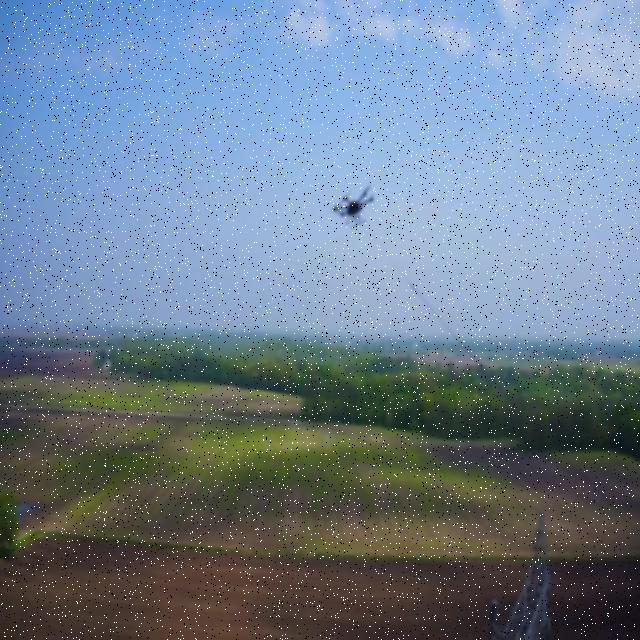UAV: (332, 184, 374, 229)
